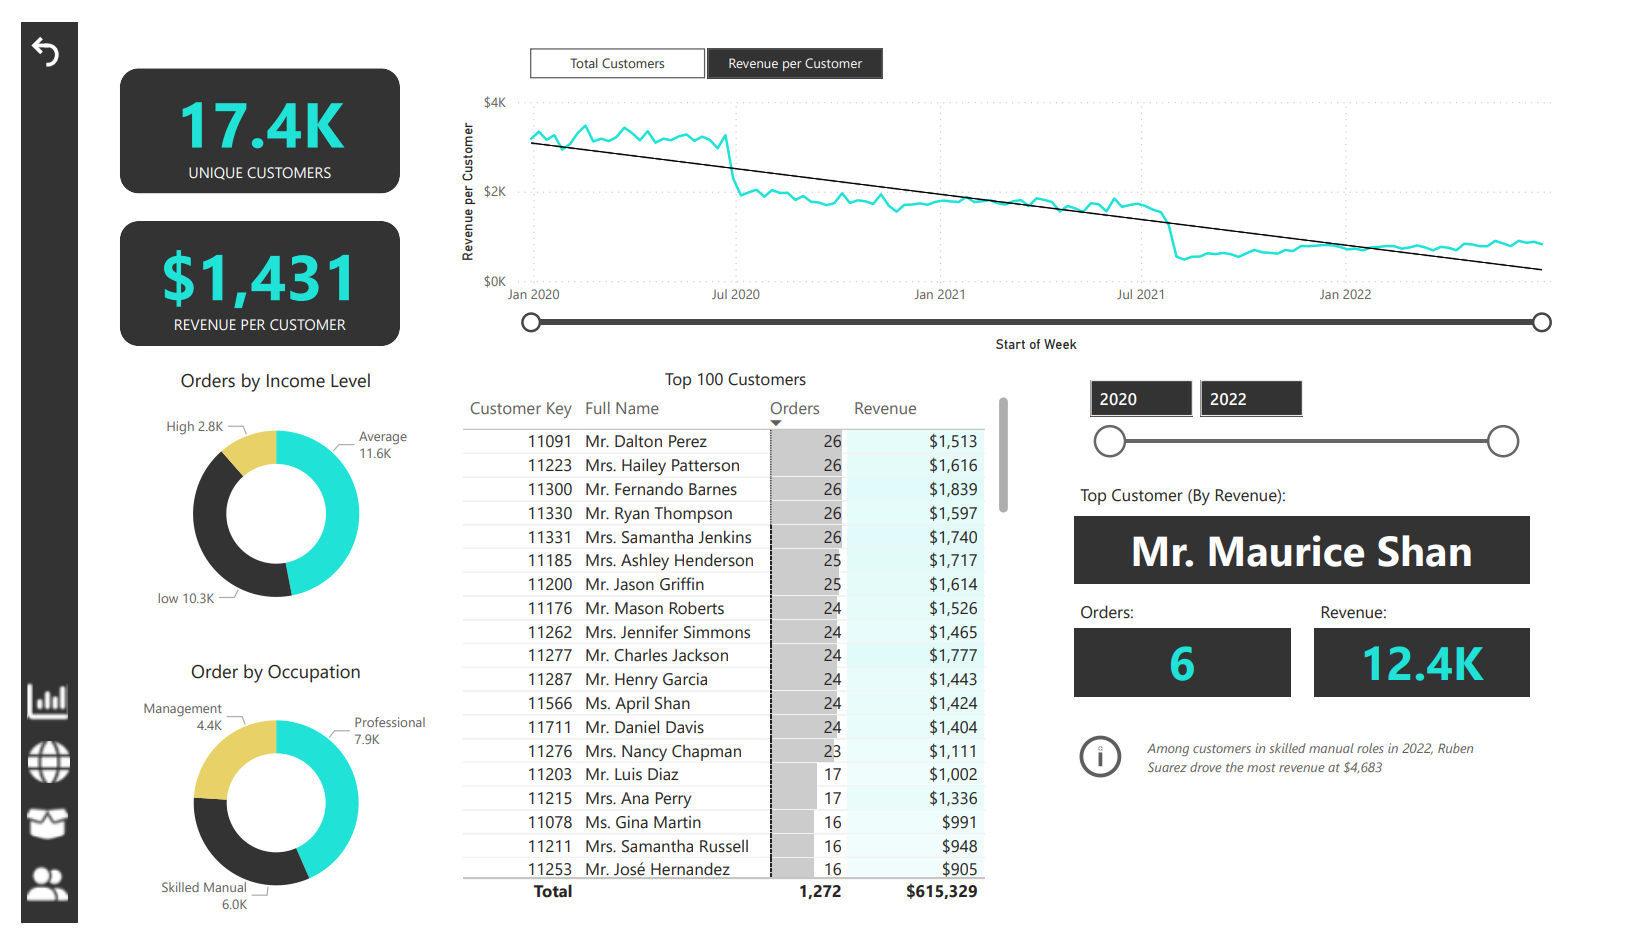

Layout of this report page (visuals, bound fields, positions):
{"tool":"powerbi","page":{"name":"Customer Detail","canvas":[1280,720],"ordinal":3},"visuals":[{"type":"shape","title":"Left Nav Background","box":[0,0,45.3,719.8],"z":0},{"type":"shape","box":[79.1,37.3,224.4,100.5],"z":0,"group":"g2"},{"type":"card","fields":{"Values":["Measure Table.Total Customers"]},"box":[96.5,42.2,190.4,89.9],"z":0,"group":"g3"},{"type":"actionButton","box":[0.9,523,45.7,40.3],"z":0,"group":"g4"},{"type":"group","id":"g1","title":"KPI","box":[79.1,37.3,224.4,222.3],"z":1000},{"type":"group","id":"g2","title":"KPI Backgrounds","box":[79.1,37.3,224.4,222.3],"z":1000,"group":"g1"},{"type":"shape","box":[79.1,159.1,224.4,100.5],"z":1000,"group":"g2"},{"type":"card","fields":{"Values":["Measure Table.Average Revenue per Customer"]},"box":[96.5,164,190.4,89.9],"z":1000,"group":"g3"},{"type":"actionButton","box":[1.8,571.4,45.7,40.3],"z":1000,"group":"g4"},{"type":"group","id":"g3","title":"KPI Cards","box":[96.5,42.2,190.4,211.8],"z":2000,"group":"g1"},{"type":"lineChart","fields":{"Y":["Measure Table.Average Revenue per Customer"],"Category":["Calendar Lookup.Date Hierarchy.Start of Year","Calendar Lookup.Date Hierarchy.Start of Month","Calendar Lookup.Date Hierarchy.Start of Week","Calendar Lookup.Date Hierarchy.Date"]},"box":[347.2,49.8,894.4,217.8],"z":2000},{"type":"actionButton","box":[0.9,620.6,45.7,40.3],"z":2000,"group":"g4"},{"type":"donutChart","title":"Orders by Income Level","fields":{"Category":["Customer Lookup.Income Level"],"Y":["Measure Table.Total Orders"]},"box":[75.5,276.4,257.9,213.7],"z":3000},{"type":"actionButton","box":[0.9,669,45.7,40.3],"z":3000,"group":"g4"},{"type":"donutChart","title":"Order by Occupation","fields":{"Y":["Measure Table.Total Orders"],"Category":["Customer Lookup.Occupation"]},"box":[75.5,507.6,257.9,212.6],"z":4000},{"type":"tableEx","title":"Top 100 Customers","fields":{"Values":["Customer Lookup.CustomerKey","Customer Lookup.Full Name","Measure Table.Total Orders","Measure Table.Total Revenue"]},"box":[348,276.3,446.6,431.6],"z":5000},{"type":"card","fields":{"Values":["Measure Table.Full Name (Customer Detaail)"]},"box":[842,394.8,363.8,54.4],"z":6000},{"type":"card","fields":{"Values":["Measure Table.Total Revenue (Customer Detaail)"]},"box":[1033.8,484.2,171.9,54.6],"z":7000},{"type":"card","fields":{"Values":["Measure Table.Total Orders (Customer Detaail)"]},"box":[842.1,484.2,173.1,54.6],"z":8000},{"type":"textbox","box":[842.1,363.6,177.7,31.4],"z":9000},{"type":"textbox","box":[842.1,457.5,55.8,31.4],"z":10000},{"type":"textbox","box":[1033.8,457.5,73.2,31.4],"z":11000},{"type":"slicer","fields":{"Values":["Calendar Lookup.Year"]},"box":[842.1,276.4,363.6,83.6],"z":12000},{"type":"actionButton","box":[837.3,560.6,363.6,52.8],"z":13000},{"type":"actionButton","box":[2.9,6.8,38.1,33.2],"z":14000},{"type":"group","id":"g4","title":"Navigation Buttons","box":[0.9,523,46.6,186.3],"z":15000},{"type":"slicer","fields":{"Values":["Customer Metric Selection.Customer Metric Selection"]},"box":[380.6,14.3,332.2,35.8],"z":15501}]}

Visuals, with their boxes in screenshot pixels (x1, y1, x2, y2), scaled from the page's 1280x720 canvas onto the 1643x947 screenshot:
"Left Nav Background" shape: 0 0 58 946
shape: 102 49 390 181
card - Measure Table.Total Customers: 124 56 368 174
actionButton: 1 688 60 741
"KPI" group: 102 49 390 341
"KPI Backgrounds" group: 102 49 390 341
shape: 102 209 390 341
card - Measure Table.Average Revenue per Customer: 124 216 368 334
actionButton: 2 752 61 805
"KPI Cards" group: 124 56 368 334
lineChart - Measure Table.Average Revenue per Customer x Calendar Lookup.Date Hierarchy.Start of Year: 446 66 1594 352
actionButton: 1 816 60 869
"Orders by Income Level" donutChart: 97 364 428 645
actionButton: 1 880 60 933
"Order by Occupation" donutChart: 97 668 428 946
"Top 100 Customers" tableEx: 447 363 1020 931
card - Measure Table.Full Name (Customer Detaail): 1081 519 1548 591
card - Measure Table.Total Revenue (Customer Detaail): 1327 637 1548 709
card - Measure Table.Total Orders (Customer Detaail): 1081 637 1303 709
textbox: 1081 478 1309 520
textbox: 1081 602 1153 643
textbox: 1327 602 1421 643
slicer - Calendar Lookup.Year: 1081 364 1548 474
actionButton: 1075 737 1541 807
actionButton: 4 9 53 53
"Navigation Buttons" group: 1 688 61 933
slicer - Customer Metric Selection.Customer Metric Selection: 489 19 915 66
